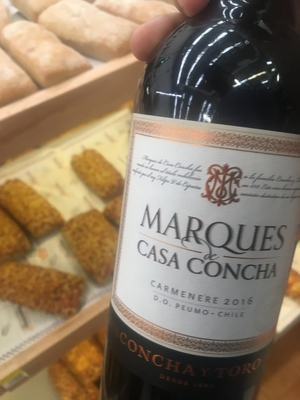marques de casa concha carmenere: (108, 25, 300, 395)
